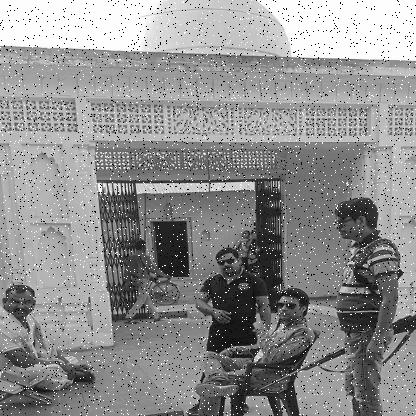rifle: (251, 313, 415, 395)
